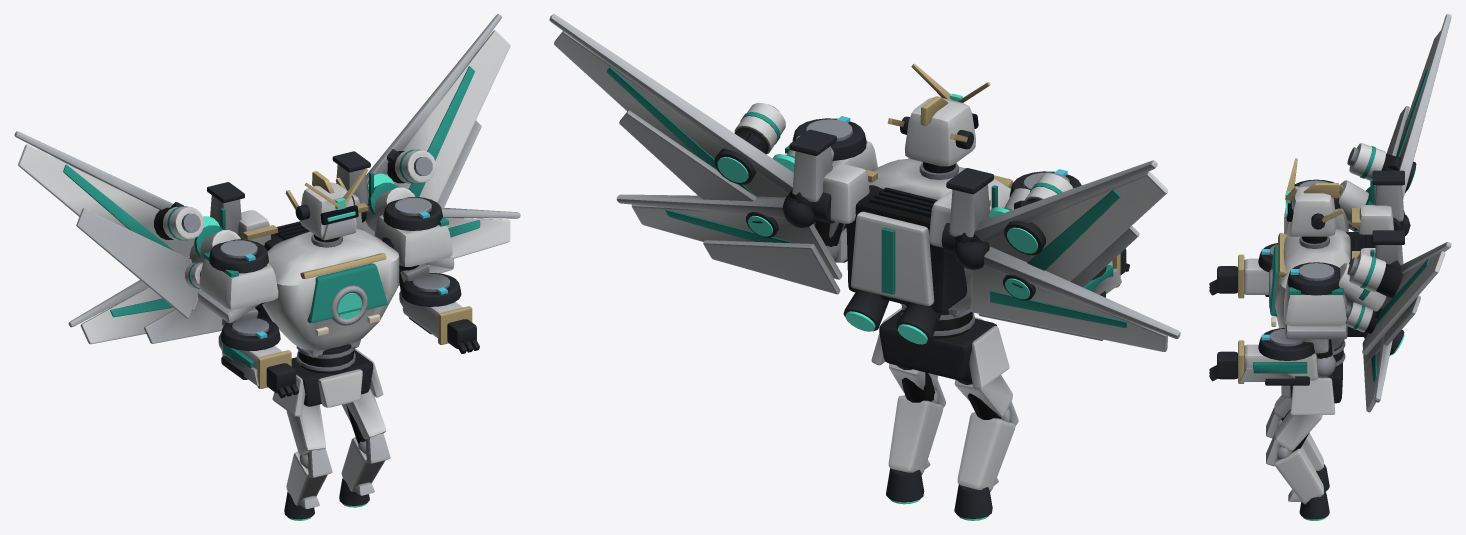
The model's file is ex_seraph_5.glb.
3 renders of one model, left to right at view 1: azimuth 30°, elevation 25°; view 2: azimuth 150°, elevation 25°; view 3: azimuth 270°, elevation 25°, orthographic. The views are drawn at different scales.
Visible parts, largest first — view 1: body, flap_4, flap_0, flap_5, flap_1; view 2: body, flap_0, flap_4, flap_1, flap_5; view 3: body, flap_0, flap_4, flap_1.
Part boxes in pixels (x1,y1,x2,y2): body: [189, 151, 479, 520]; flap_4: [14, 131, 203, 318]; flap_0: [366, 14, 510, 208]; flap_5: [68, 258, 223, 344]; flap_1: [362, 207, 520, 285]; body: [772, 63, 1129, 520]; flap_0: [549, 14, 814, 206]; flap_4: [954, 160, 1168, 287]; flap_1: [616, 194, 842, 294]; flap_5: [953, 241, 1180, 351]; body: [1209, 158, 1404, 520]; flap_0: [1347, 242, 1451, 365]; flap_4: [1347, 14, 1451, 223]; flap_1: [1345, 302, 1392, 412].
Bounding box in the file's own units: 8.71 × 6.53 × 3.83.
